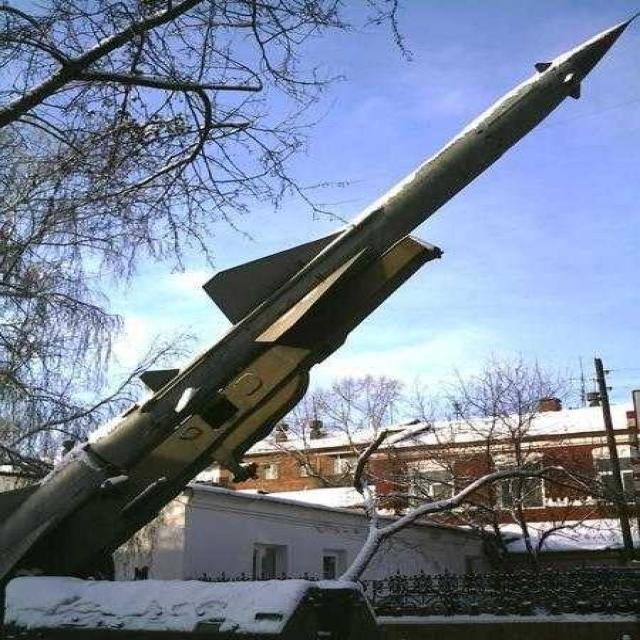missile: (0, 14, 639, 575)
